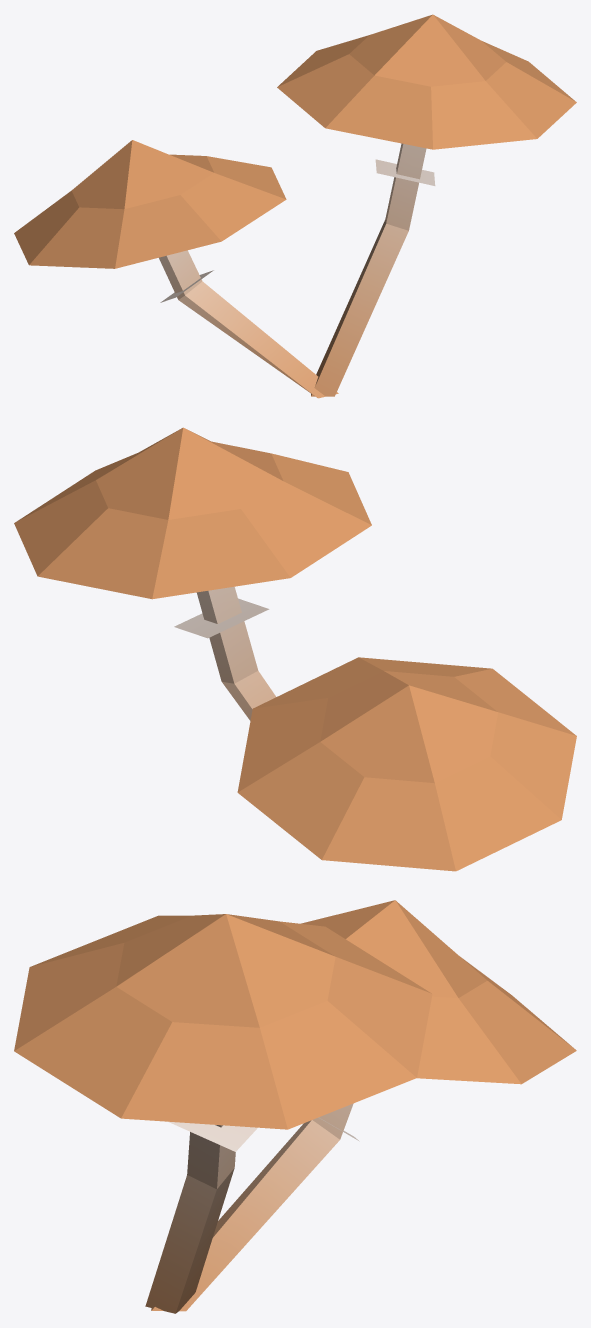
The model's file is Mushroom_i_08.fbx.
The picture shows the model from 3 angles, top to bottom: view 1: azimuth 30°, elevation 25°; view 2: azimuth 150°, elevation 25°; view 3: azimuth 270°, elevation 25°; orthographic projection. The views are drawn at different scales.
Visible parts, largest first — view 1: Mushroom_i_08; view 2: Mushroom_i_08; view 3: Mushroom_i_08.
Part boxes in pixels (x1,y1,x2,y2): Mushroom_i_08: (14,14,576,398); Mushroom_i_08: (14,427,576,871); Mushroom_i_08: (14,900,576,1313).
Size of the model in its own units: 46.71 by 31.22 by 33.05.
